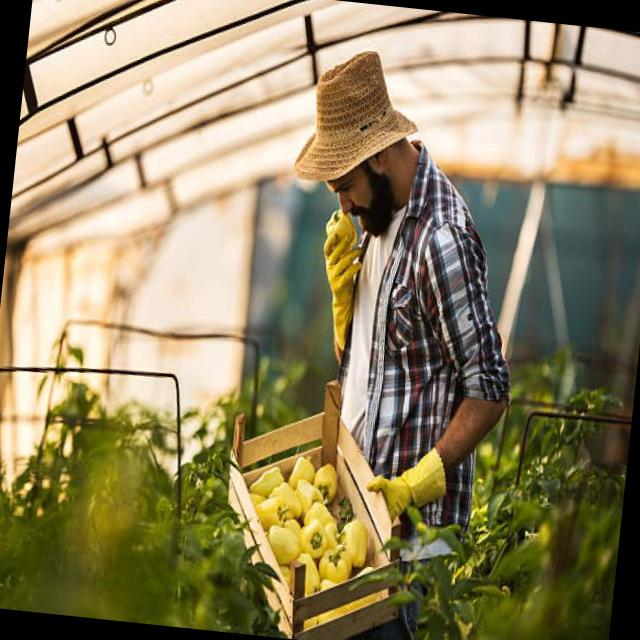Gloves: (306, 204, 368, 362), (360, 436, 450, 528)
